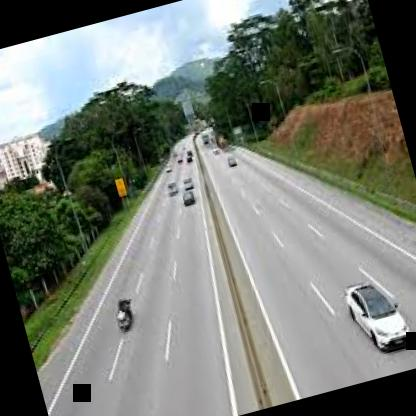car: (329, 264, 416, 371), (106, 291, 146, 333), (160, 172, 186, 208), (175, 182, 199, 214), (220, 150, 242, 172)
